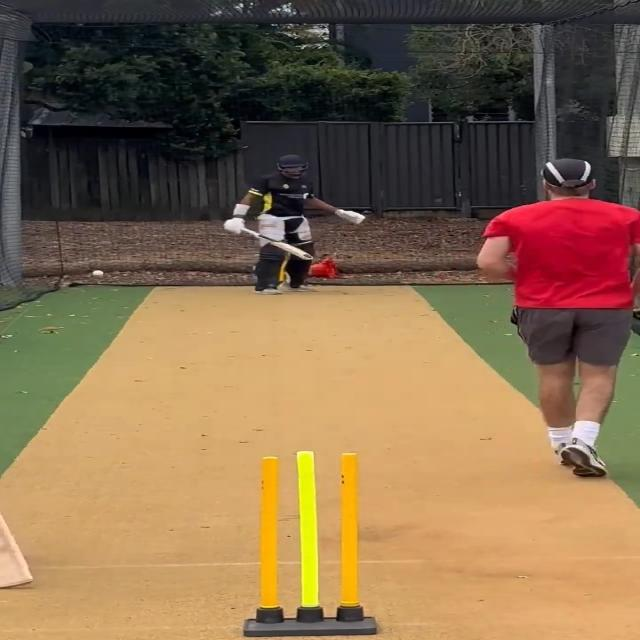ball: (91, 270, 106, 279)
stump: (241, 449, 386, 640)
